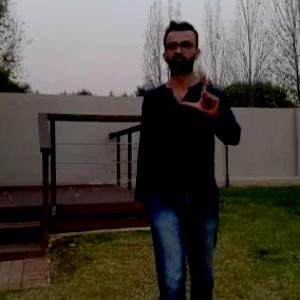land_hand: (179, 66, 225, 120)
